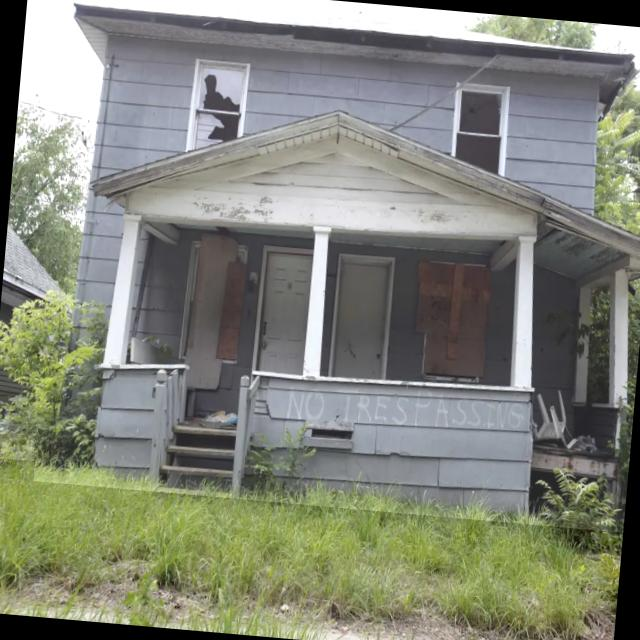House: (33, 0, 640, 532), (0, 31, 89, 462)
